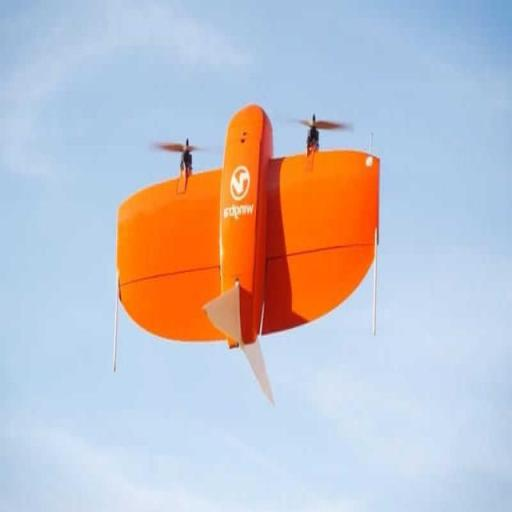uav: (82, 100, 392, 404)
